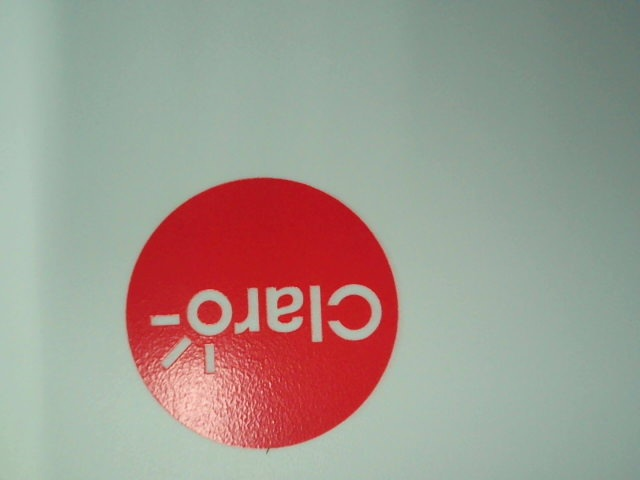BC_ClaorRed: (107, 171, 408, 452)
